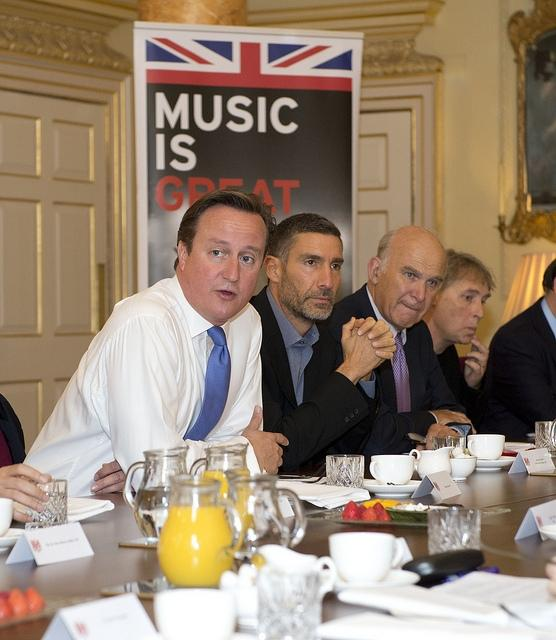strawberry: (8, 588, 28, 618), (24, 588, 45, 614), (341, 500, 363, 520), (0, 596, 12, 621), (362, 506, 378, 522), (378, 508, 392, 522), (373, 502, 384, 518), (0, 591, 11, 600), (358, 504, 367, 514)
